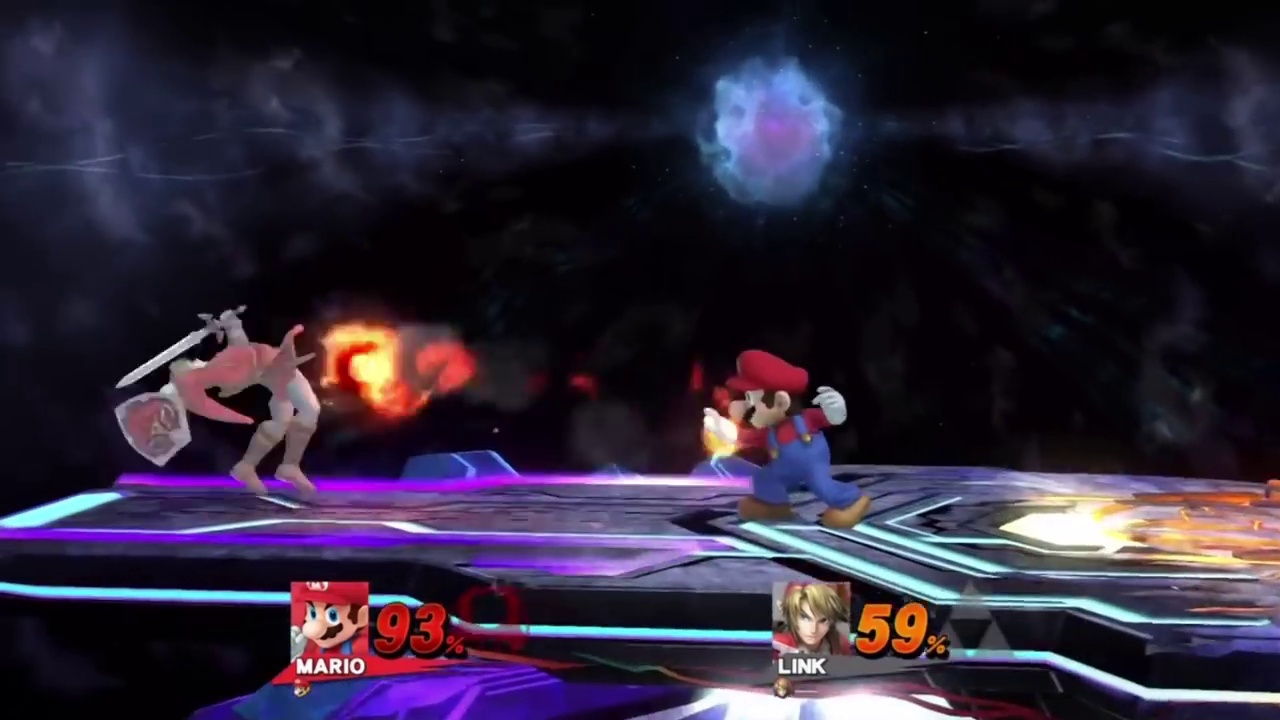Mario: (704, 350, 873, 531)
